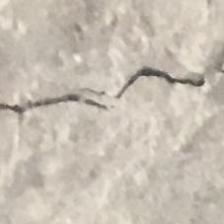Crack: (0, 57, 224, 126)
